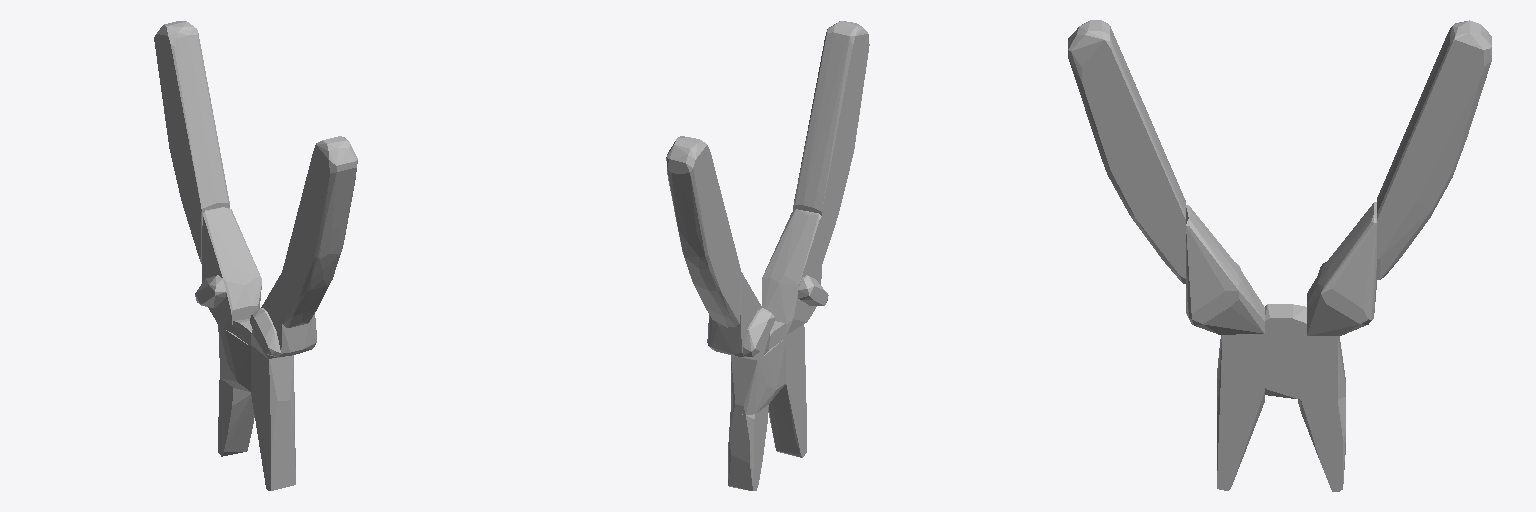
robot.urdf — root:
<robot name="root"><link name="link_plier_0000"><inertial><origin rpy="0 0 0" xyz="0 0 0" /><mass value="3.13E-03" /><inertia ixx="1.55E-06" ixy="4.84E-09" ixz="-3.93E-09" iyy="7.17E-07" iyz="7.24E-07" izz="8.43E-07" /></inertial><visual><origin rpy="0 0 0" xyz="0 0 0" /><geometry><mesh filename="package://plier/plier_0000.obj" /></geometry><material name=""><color rgba="0.75 0.75 0.75 1" /></material></visual><collision><origin rpy="0 0 0" xyz="0 0 0" /><geometry><mesh filename="package://plier/plier_0000.obj" /></geometry></collision></link><link name="link_plier_0001"><inertial><origin rpy="0 0 0" xyz="0 0 0" /><mass value="3.07E-03" /><inertia ixx="1.53E-06" ixy="-4.09E-09" ixz="-3.70E-09" iyy="7.11E-07" iyz="-7.17E-07" izz="8.31E-07" /></inertial><visual><origin rpy="0 0 0" xyz="0 0 0" /><geometry><mesh filename="package://plier/plier_0001.obj" /></geometry><material name=""><color rgba="0.75 0.75 0.75 1" /></material></visual><collision><origin rpy="0 0 0" xyz="0 0 0" /><geometry><mesh filename="package://plier/plier_0001.obj" /></geometry></collision></link><joint name="link_plier_0001_joint" type="fixed"><origin rpy="0 0 0" xyz="0 0 0" /><parent link="link_plier_0000" /><child link="link_plier_0001" /></joint><link name="link_plier_0002"><inertial><origin rpy="0 0 0" xyz="0 0 0" /><mass value="1.30E-03" /><inertia ixx="4.02E-07" ixy="6.69E-10" ixz="2.50E-09" iyy="3.74E-07" iyz="-9.89E-08" izz="3.05E-08" /></inertial><visual><origin rpy="0 0 0" xyz="0 0 0" /><geometry><mesh filename="package://plier/plier_0002.obj" /></geometry><material name=""><color rgba="0.75 0.75 0.75 1" /></material></visual><collision><origin rpy="0 0 0" xyz="0 0 0" /><geometry><mesh filename="package://plier/plier_0002.obj" /></geometry></collision></link><joint name="link_plier_0002_joint" type="fixed"><origin rpy="0 0 0" xyz="0 0 0" /><parent link="link_plier_0001" /><child link="link_plier_0002" /></joint><link name="link_plier_0003"><inertial><origin rpy="0 0 0" xyz="0 0 0" /><mass value="1.06E-04" /><inertia ixx="7.46E-09" ixy="-1.94E-09" ixz="-1.24E-09" iyy="2.97E-09" iyz="-3.34E-09" izz="6.01E-09" /></inertial><visual><origin rpy="0 0 0" xyz="0 0 0" /><geometry><mesh filename="package://plier/plier_0003.obj" /></geometry><material name=""><color rgba="0.75 0.75 0.75 1" /></material></visual><collision><origin rpy="0 0 0" xyz="0 0 0" /><geometry><mesh filename="package://plier/plier_0003.obj" /></geometry></collision></link><joint name="link_plier_0003_joint" type="fixed"><origin rpy="0 0 0" xyz="0 0 0" /><parent link="link_plier_0002" /><child link="link_plier_0003" /></joint><link name="link_plier_0004"><inertial><origin rpy="0 0 0" xyz="0 0 0" /><mass value="1.56E-03" /><inertia ixx="1.14E-07" ixy="5.37E-09" ixz="2.82E-09" iyy="3.69E-08" iyz="-3.17E-08" izz="8.46E-08" /></inertial><visual><origin rpy="0 0 0" xyz="0 0 0" /><geometry><mesh filename="package://plier/plier_0004.obj" /></geometry><material name=""><color rgba="0.75 0.75 0.75 1" /></material></visual><collision><origin rpy="0 0 0" xyz="0 0 0" /><geometry><mesh filename="package://plier/plier_0004.obj" /></geometry></collision></link><joint name="link_plier_0004_joint" type="fixed"><origin rpy="0 0 0" xyz="0 0 0" /><parent link="link_plier_0003" /><child link="link_plier_0004" /></joint><link name="link_plier_0005"><inertial><origin rpy="0 0 0" xyz="0 0 0" /><mass value="6.20E-04" /><inertia ixx="2.83E-07" ixy="-3.89E-10" ixz="1.70E-09" iyy="2.66E-07" iyz="6.53E-08" izz="1.75E-08" /></inertial><visual><origin rpy="0 0 0" xyz="0 0 0" /><geometry><mesh filename="package://plier/plier_0005.obj" /></geometry><material name=""><color rgba="0.75 0.75 0.75 1" /></material></visual><collision><origin rpy="0 0 0" xyz="0 0 0" /><geometry><mesh filename="package://plier/plier_0005.obj" /></geometry></collision></link><joint name="link_plier_0005_joint" type="fixed"><origin rpy="0 0 0" xyz="0 0 0" /><parent link="link_plier_0004" /><child link="link_plier_0005" /></joint><link name="link_plier_0006"><inertial><origin rpy="0 0 0" xyz="0 0 0" /><mass value="1.13E-03" /><inertia ixx="1.92E-07" ixy="-3.87E-12" ixz="4.10E-10" iyy="1.80E-07" iyz="3.50E-08" izz="1.44E-08" /></inertial><visual><origin rpy="0 0 0" xyz="0 0 0" /><geometry><mesh filename="package://plier/plier_0006.obj" /></geometry><material name=""><color rgba="0.75 0.75 0.75 1" /></material></visual><collision><origin rpy="0 0 0" xyz="0 0 0" /><geometry><mesh filename="package://plier/plier_0006.obj" /></geometry></collision></link><joint name="link_plier_0006_joint" type="fixed"><origin rpy="0 0 0" xyz="0 0 0" /><parent link="link_plier_0005" /><child link="link_plier_0006" /></joint><link name="link_plier_0007"><inertial><origin rpy="0 0 0" xyz="0 0 0" /><mass value="1.62E-04" /><inertia ixx="9.86E-09" ixy="-6.20E-12" ixz="1.27E-10" iyy="9.74E-09" iyz="6.07E-10" izz="4.73E-10" /></inertial><visual><origin rpy="0 0 0" xyz="0 0 0" /><geometry><mesh filename="package://plier/plier_0007.obj" /></geometry><material name=""><color rgba="0.75 0.75 0.75 1" /></material></visual><collision><origin rpy="0 0 0" xyz="0 0 0" /><geometry><mesh filename="package://plier/plier_0007.obj" /></geometry></collision></link><joint name="link_plier_0007_joint" type="fixed"><origin rpy="0 0 0" xyz="0 0 0" /><parent link="link_plier_0006" /><child link="link_plier_0007" /></joint><link name="link_plier_0008"><inertial><origin rpy="0 0 0" xyz="0 0 0" /><mass value="1.14E-04" /><inertia ixx="8.07E-09" ixy="2.08E-09" ixz="-1.33E-09" iyy="3.21E-09" iyz="3.60E-09" izz="6.49E-09" /></inertial><visual><origin rpy="0 0 0" xyz="0 0 0" /><geometry><mesh filename="package://plier/plier_0008.obj" /></geometry><material name=""><color rgba="0.75 0.75 0.75 1" /></material></visual><collision><origin rpy="0 0 0" xyz="0 0 0" /><geometry><mesh filename="package://plier/plier_0008.obj" /></geometry></collision></link><joint name="link_plier_0008_joint" type="fixed"><origin rpy="0 0 0" xyz="0 0 0" /><parent link="link_plier_0007" /><child link="link_plier_0008" /></joint><link name="link_plier_0009"><inertial><origin rpy="0 0 0" xyz="0 0 0" /><mass value="1.55E-03" /><inertia ixx="1.17E-07" ixy="-5.33E-09" ixz="2.62E-09" iyy="3.59E-08" iyz="3.11E-08" izz="8.79E-08" /></inertial><visual><origin rpy="0 0 0" xyz="0 0 0" /><geometry><mesh filename="package://plier/plier_0009.obj" /></geometry><material name=""><color rgba="0.75 0.75 0.75 1" /></material></visual><collision><origin rpy="0 0 0" xyz="0 0 0" /><geometry><mesh filename="package://plier/plier_0009.obj" /></geometry></collision></link><joint name="link_plier_0009_joint" type="fixed"><origin rpy="0 0 0" xyz="0 0 0" /><parent link="link_plier_0008" /><child link="link_plier_0009" /></joint></robot>

--- What the picture shows (computed from the rendered views, not written in the file) ---
3 views of the same robot in one strip: view 1: azimuth 30°, elevation 25°; view 2: azimuth 150°, elevation 25°; view 3: azimuth 270°, elevation 25° (orthographic).
Model root with 10 links and 9 joints (9 fixed), rooted at link_plier_0000, posed every joint at zero.
Visible links, largest first — view 1: link_plier_0001, link_plier_0000, link_plier_0002, link_plier_0009, link_plier_0005, link_plier_0004, link_plier_0006, link_plier_0003, link_plier_0008; view 2: link_plier_0000, link_plier_0001, link_plier_0004, link_plier_0002, link_plier_0006, link_plier_0005, link_plier_0009, link_plier_0008, link_plier_0003; view 3: link_plier_0000, link_plier_0001, link_plier_0004, link_plier_0009, link_plier_0002, link_plier_0006, link_plier_0005, link_plier_0007.
Boxes of the visible links, <box> form: link_plier_0001: <box>154,21,229,263</box>; link_plier_0000: <box>282,136,357,327</box>; link_plier_0002: <box>251,345,295,490</box>; link_plier_0009: <box>202,207,261,332</box>; link_plier_0005: <box>218,378,254,456</box>; link_plier_0004: <box>251,273,316,358</box>; link_plier_0006: <box>218,325,250,391</box>; link_plier_0003: <box>250,308,280,357</box>; link_plier_0008: <box>195,275,225,307</box>; link_plier_0000: <box>793,21,869,263</box>; link_plier_0001: <box>666,136,740,327</box>; link_plier_0004: <box>762,209,821,334</box>; link_plier_0002: <box>768,325,806,457</box>; link_plier_0006: <box>731,338,785,414</box>; link_plier_0005: <box>728,405,768,490</box>; link_plier_0009: <box>707,272,769,360</box>; link_plier_0008: <box>743,308,774,356</box>; link_plier_0003: <box>798,275,828,305</box>; link_plier_0000: <box>1068,20,1185,283</box>; link_plier_0001: <box>1377,20,1491,279</box>; link_plier_0004: <box>1186,205,1264,334</box>; link_plier_0009: <box>1307,202,1376,335</box>; link_plier_0002: <box>1217,334,1264,490</box>; link_plier_0006: <box>1265,336,1345,399</box>; link_plier_0005: <box>1298,397,1345,491</box>; link_plier_0007: <box>1265,304,1306,335</box>.
Bounding box of the posed robot: 0.0069 × 0.0452 × 0.0538 m (x, y, z).
10 mesh visuals loaded from 10 distinct referenced files (10 OBJ).